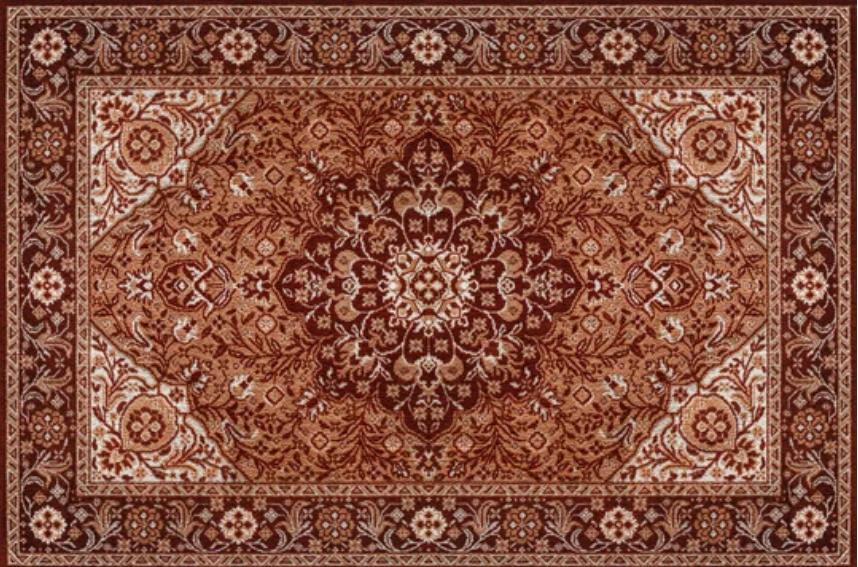carpet: (8, 5, 854, 563)
